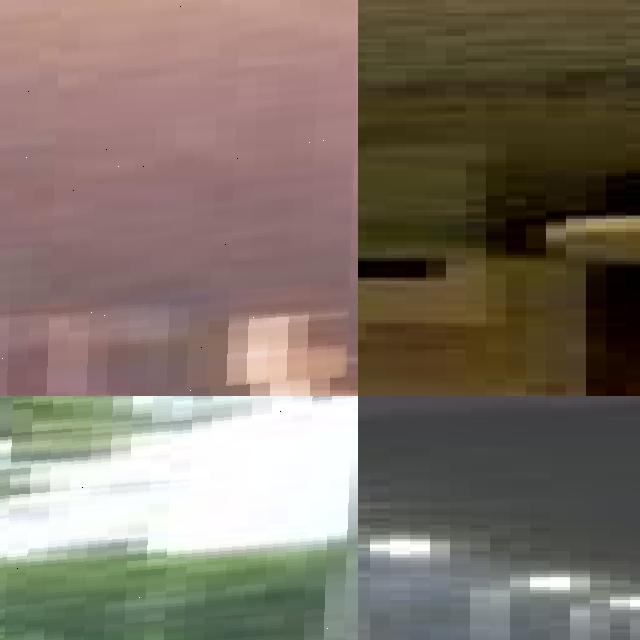street light: (0, 0, 358, 396), (0, 396, 358, 640), (358, 538, 440, 640), (490, 577, 590, 640)
